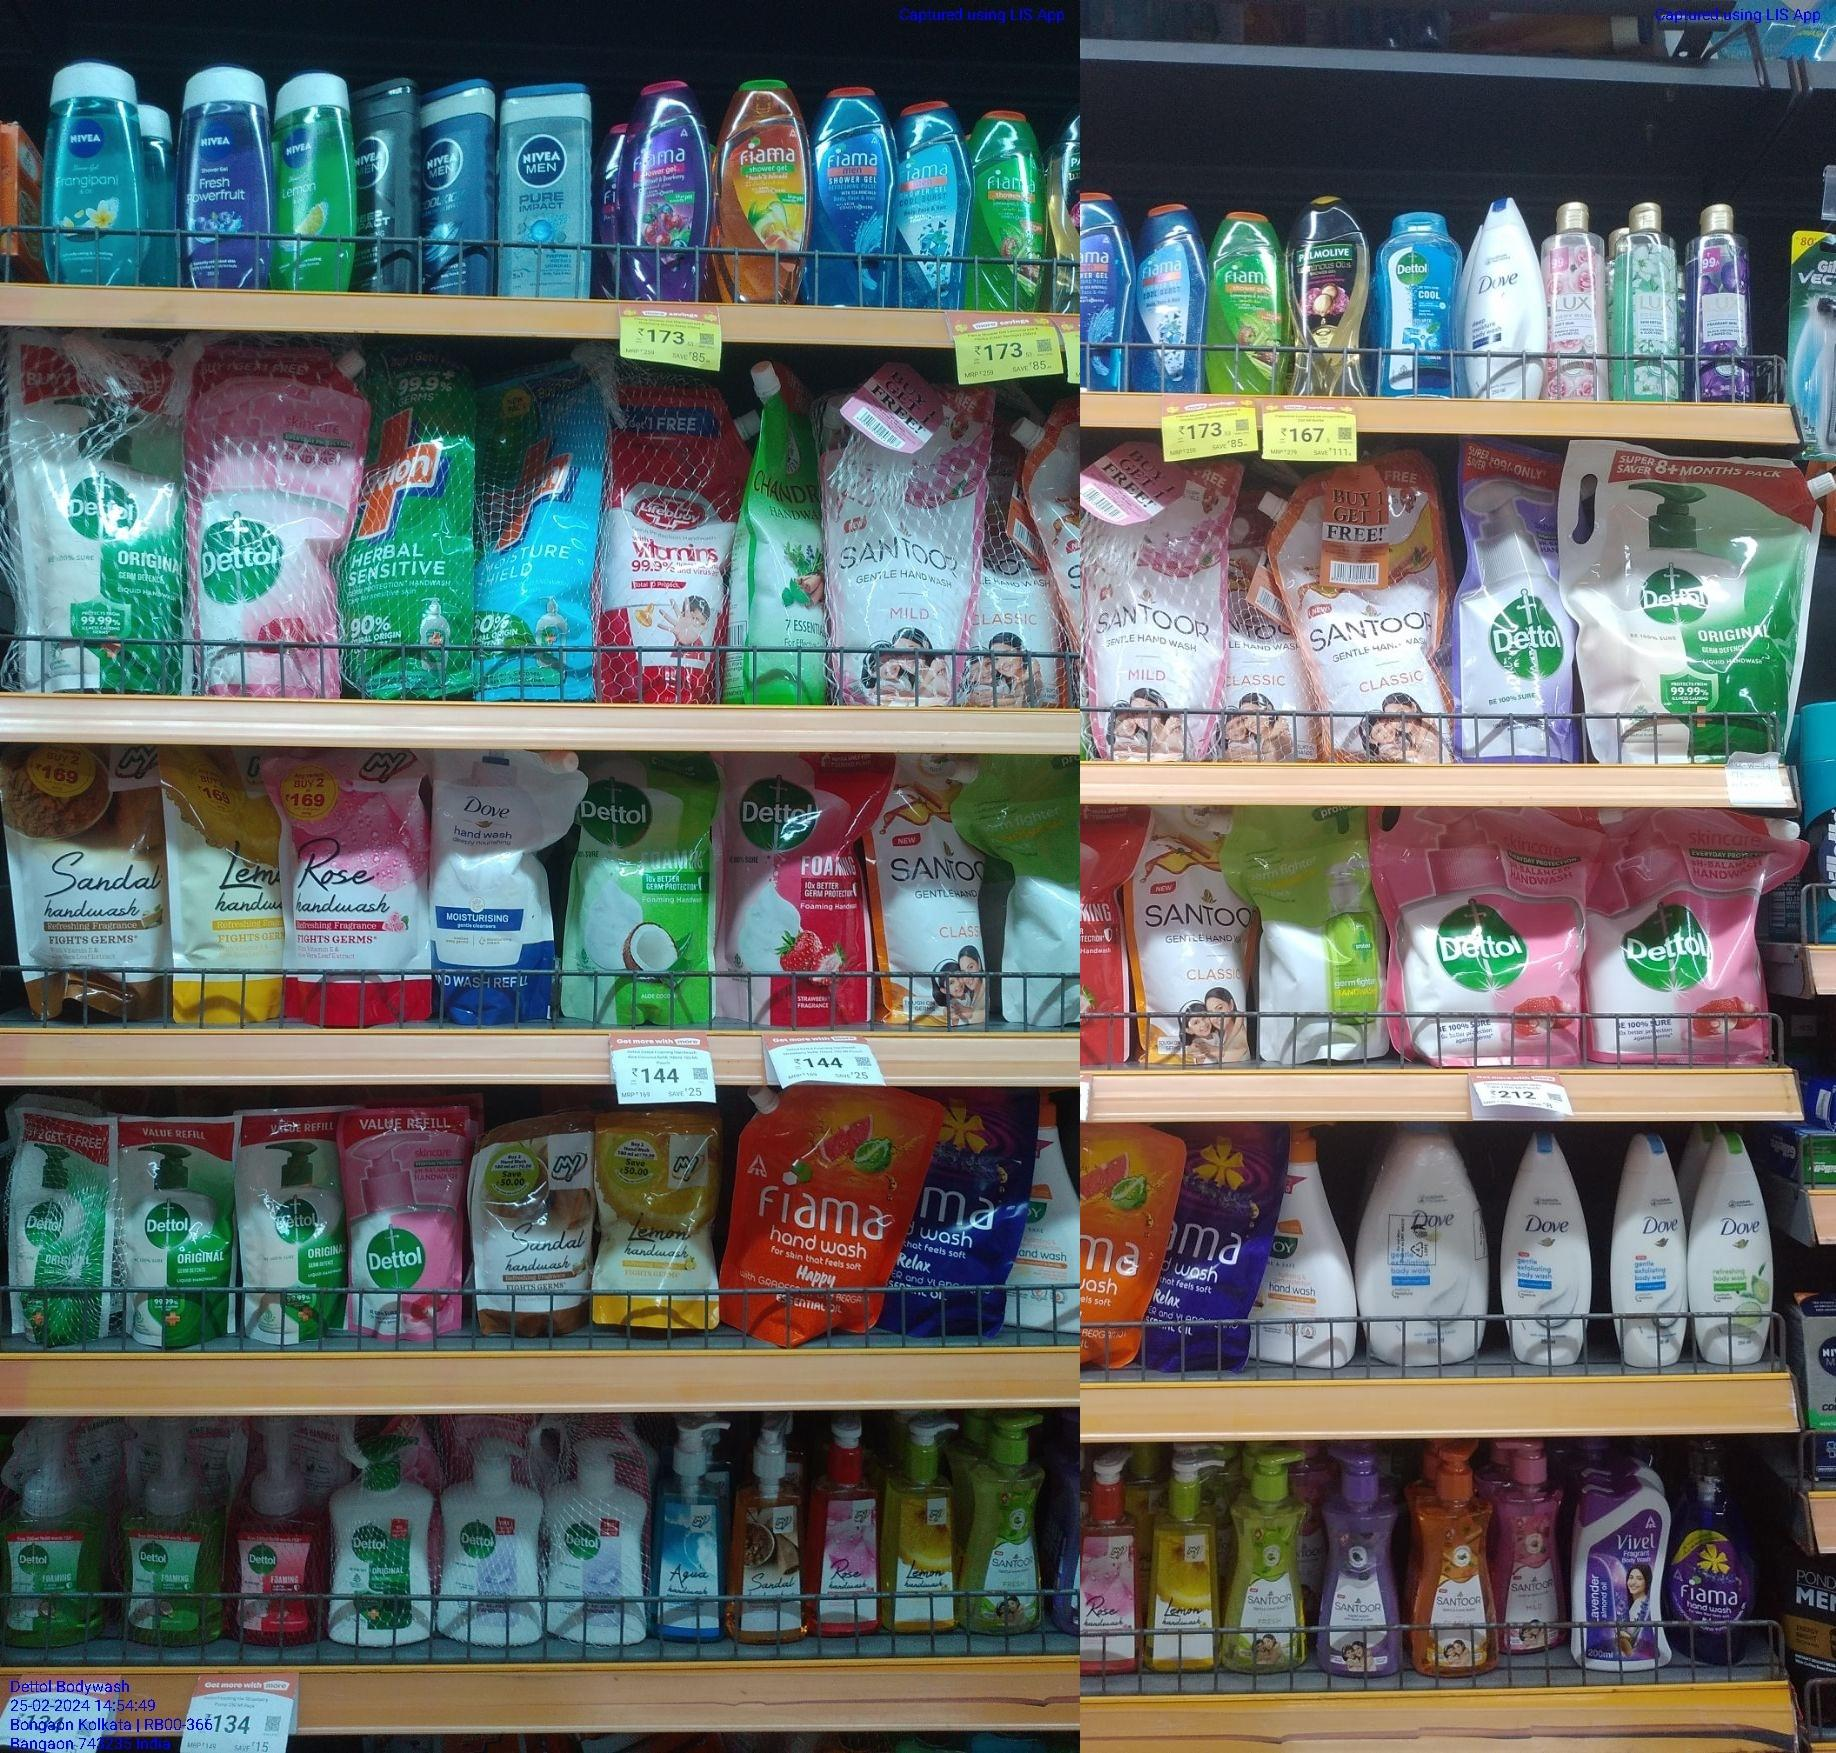Dettol_Bodywash_Cool: (1379, 212, 1462, 395)
Dove_Deep_Moisture_Body_Wash_250ML: (1469, 197, 1546, 398)
Fiama_Shower_Gel_Lemongrass_and_Jojoba_250ML: (1211, 212, 1287, 392), (977, 110, 1044, 310)
Fiama_Shower_Gel_Peach_and_Avocado_250ML: (720, 79, 808, 305)
Lux_Black_Orchid_Scent_and_Juniper_Oil_Body_Wash_245ML: (1695, 202, 1754, 402)
Lux_Body_Wash_Skin_Detox_Freesia_Scent_and_Alove_Vera_245ML: (1621, 200, 1680, 402)
Nivea_Shower_Gel_Frangipani_and_Oil_250ML: (44, 57, 138, 284)
Nivea_Shower_Gel_Fresh_Powerfruit_250ML: (177, 62, 269, 289)
Nivea_Shower_Gel_Lemon_and_Oil_250ML: (274, 71, 351, 290)
Palmolive_Luminous_Oils_Invigorating_Macadamia_Oil_With_Peony_250ML: (1295, 195, 1369, 394)
